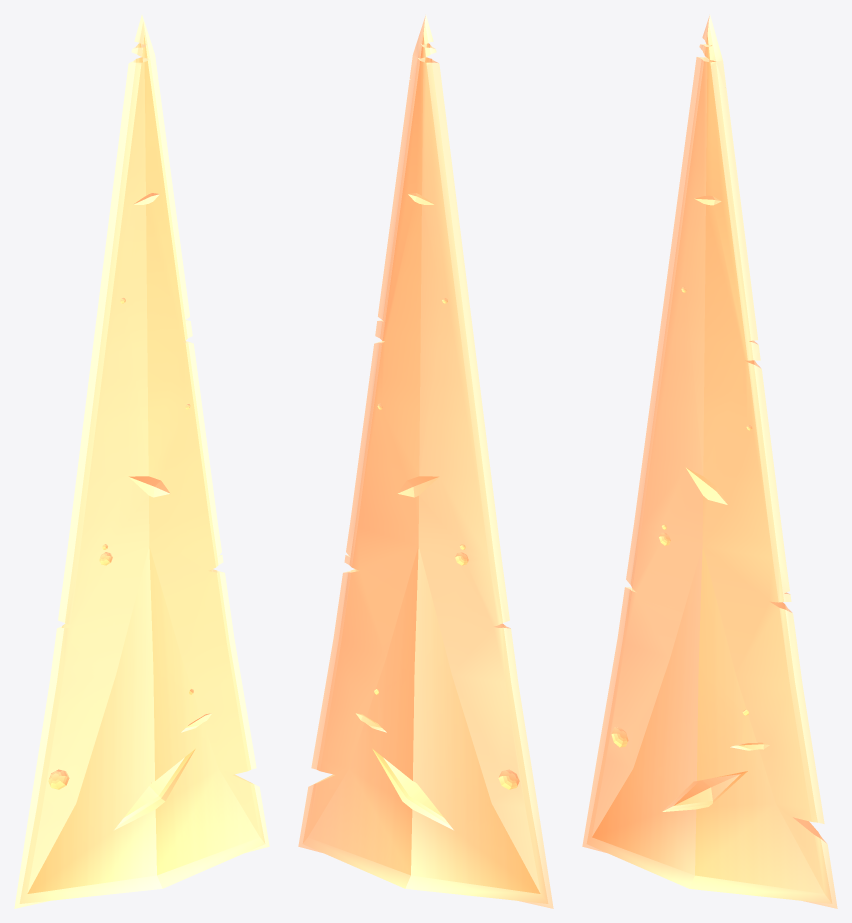
File: wood_blade_bubbles_064.glb
3 renders of one model, left to right at view 1: azimuth 30°, elevation 25°; view 2: azimuth 150°, elevation 25°; view 3: azimuth 330°, elevation 25°, orthographic.
Parts seen in each view (by area): view 1: wood_blade_bubbles.064; view 2: wood_blade_bubbles.064; view 3: wood_blade_bubbles.064.
Part boxes in pixels (left/top/right/bottom): wood_blade_bubbles.064: left=14, top=15, right=269, bottom=908; wood_blade_bubbles.064: left=298, top=15, right=553, bottom=908; wood_blade_bubbles.064: left=582, top=15, right=837, bottom=908.
Size of the model in its own units: 3.52 by 11.43 by 0.9907.
Materials: 1 (1 with a texture image).
